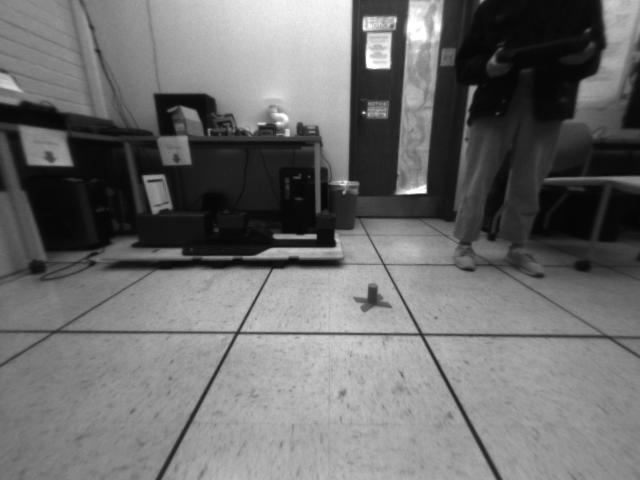x: (352, 280, 392, 313)
